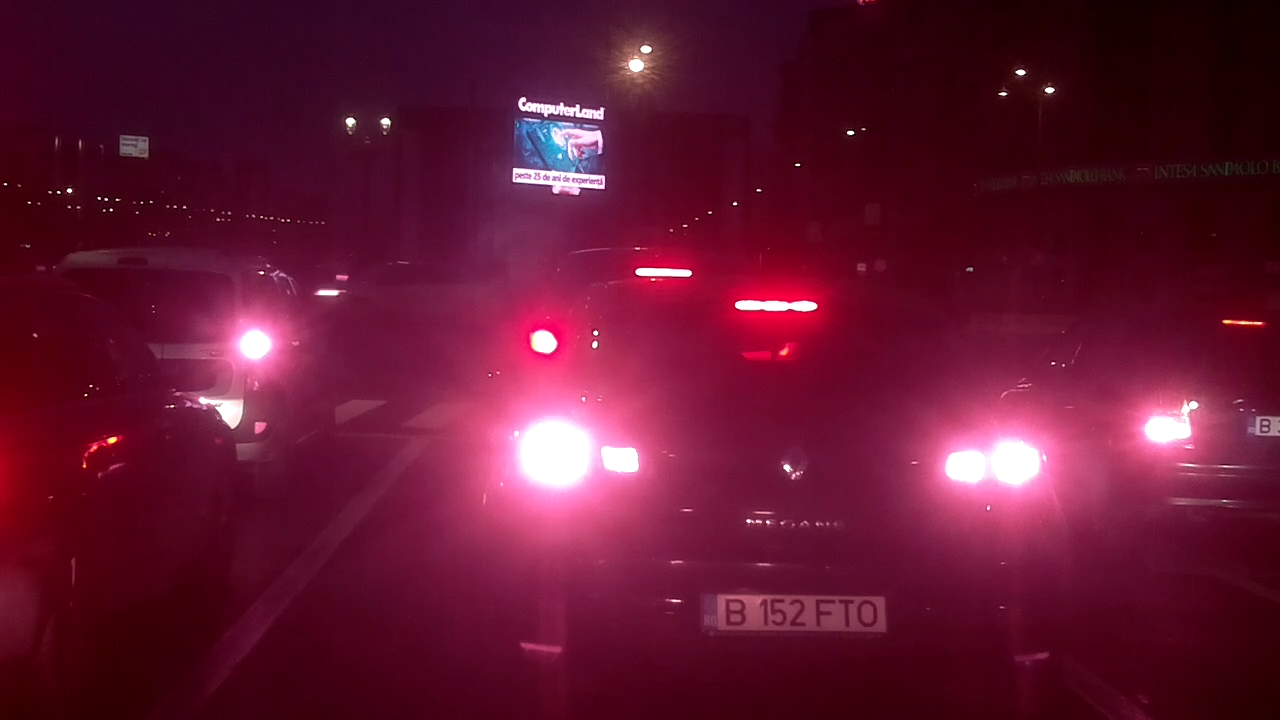license-plate: (696, 589, 893, 637)
